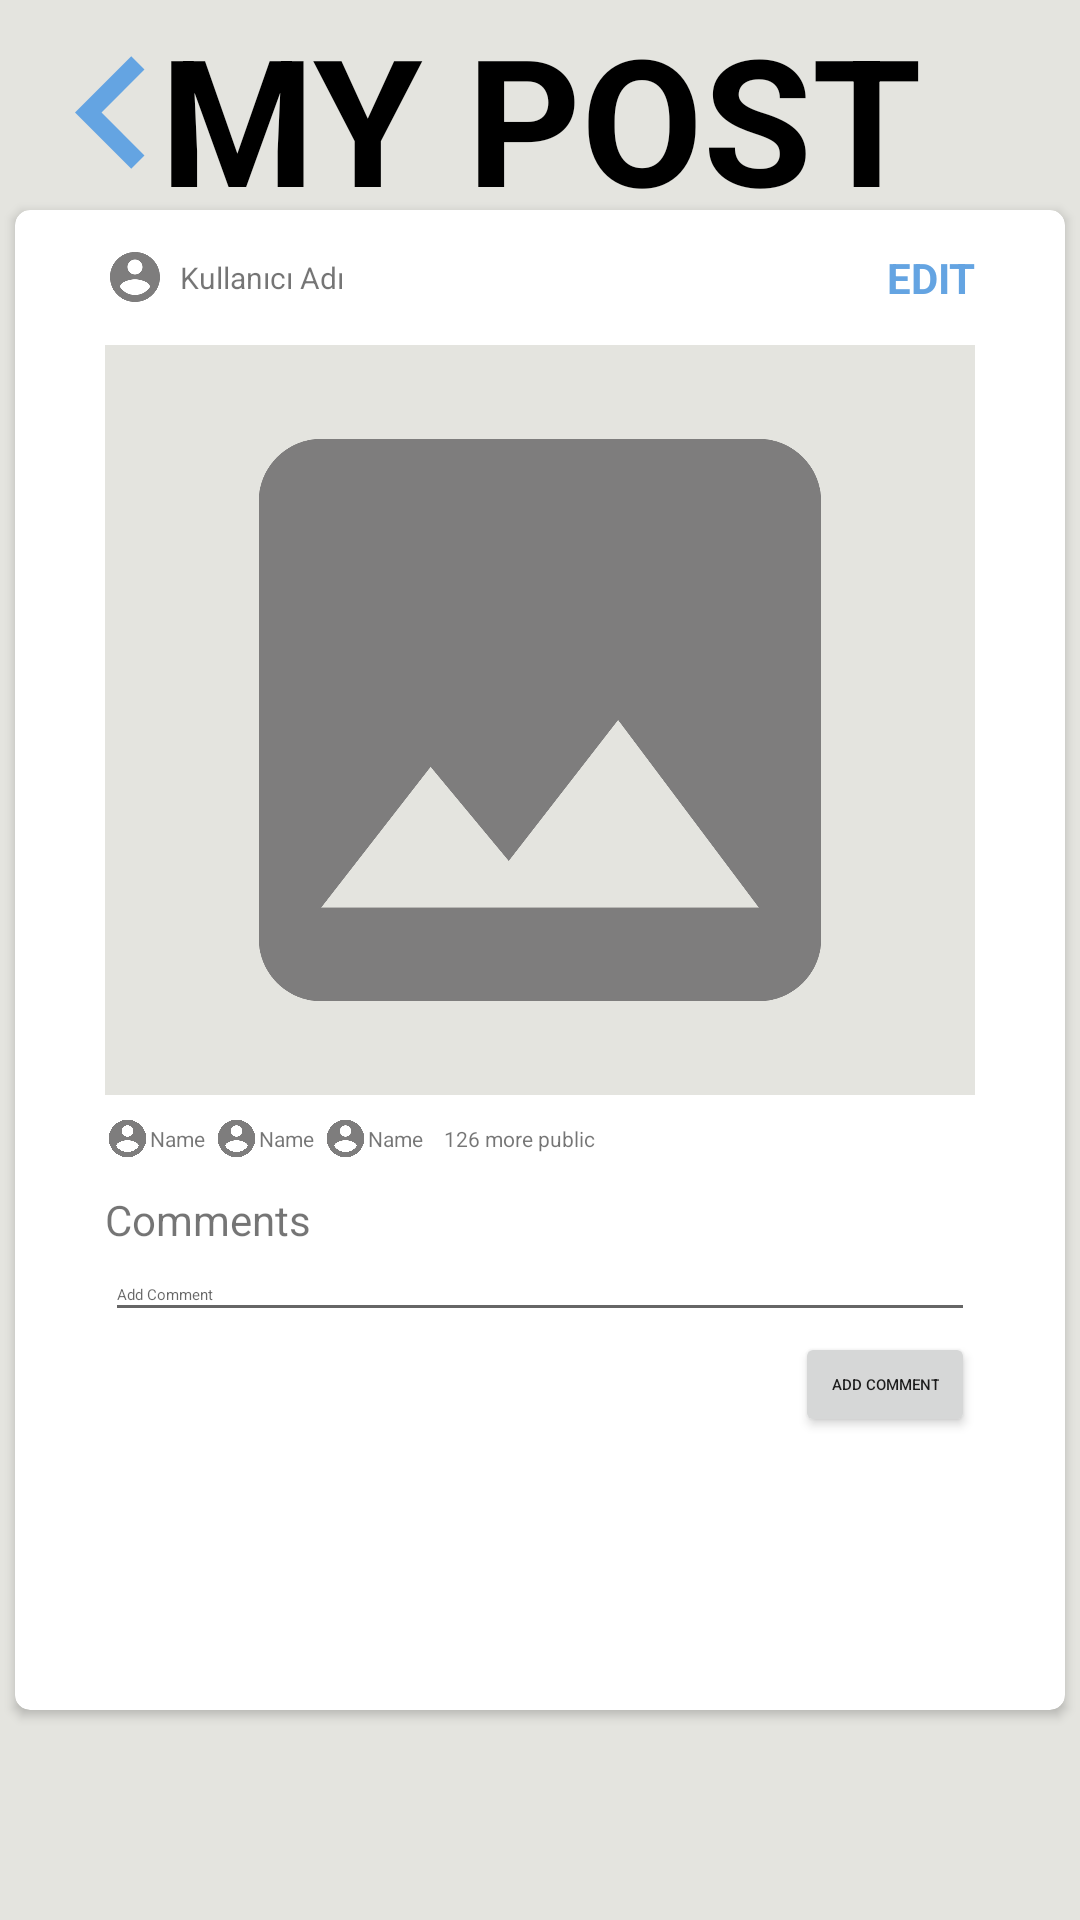

Where icons sit on this 1080 x 1920 app screen, as (x1, y1, x2, y2):
account circle: (110, 252, 160, 302), (109, 1120, 146, 1157), (218, 1120, 255, 1157), (327, 1120, 364, 1157)
